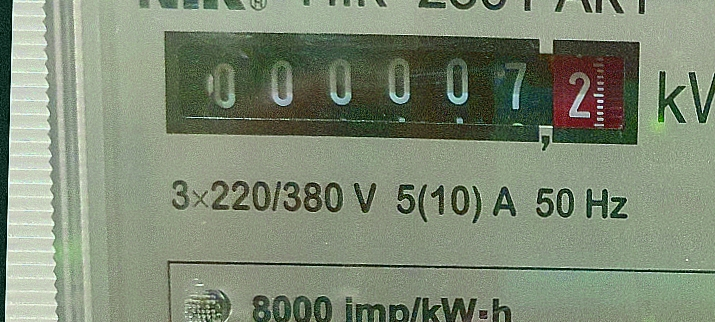0: (263, 55, 299, 107), (440, 54, 473, 108), (382, 52, 414, 106), (207, 58, 240, 110), (324, 54, 356, 107)
2: (563, 69, 594, 120)
7: (498, 57, 529, 112)
screen: (143, 10, 660, 164)
